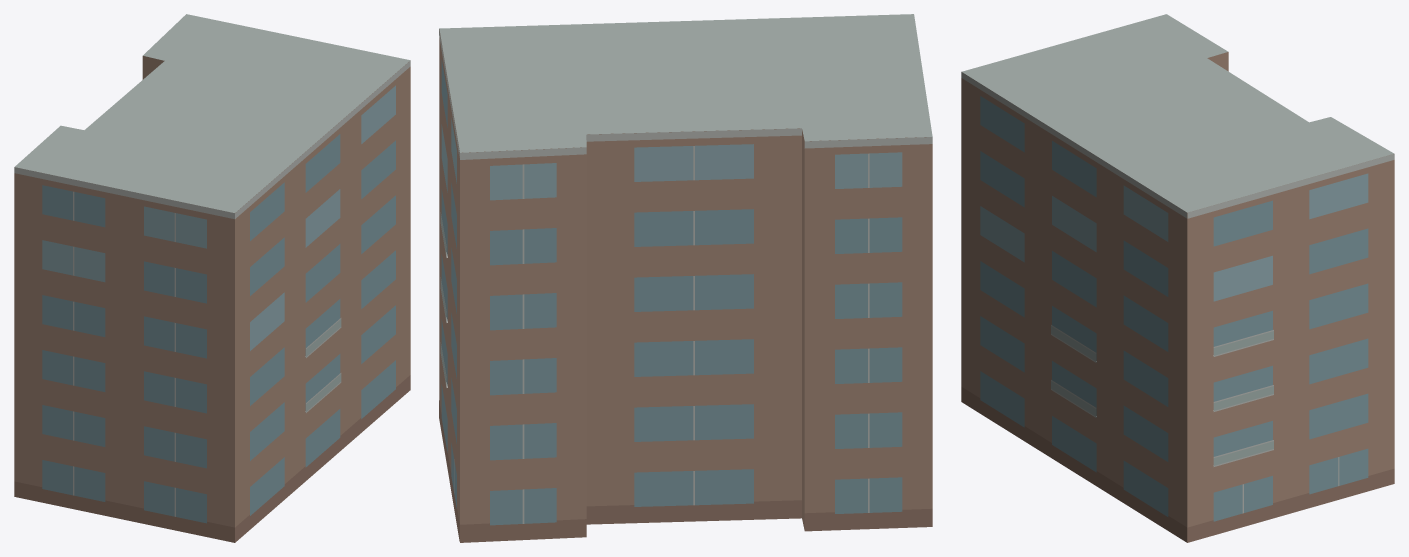
Rendered from survey-upis-32883356.glb.
3 renders of one model, left to right at view 1: azimuth 30°, elevation 25°; view 2: azimuth 150°, elevation 25°; view 3: azimuth 270°, elevation 25°, orthographic. The views are drawn at different scales.
Parts seen in each view (by area): view 1: survey-upis-32883356.tmp; view 2: survey-upis-32883356.tmp; view 3: survey-upis-32883356.tmp.
Part boxes in pixels (x1,y1,x2,y2): survey-upis-32883356.tmp: (14, 14, 410, 542); survey-upis-32883356.tmp: (439, 14, 932, 542); survey-upis-32883356.tmp: (961, 14, 1394, 542).
Size of the model in its own units: 17.05 by 13.2 by 15.7.
